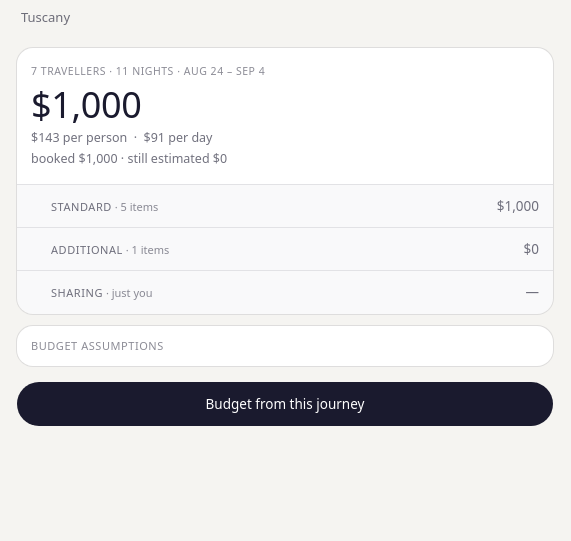
it: Budget in the person's home currency › a US person: US dollars paid count as they are, and the rate reads dollars per euro
Expected: the text with test id "estimate-booked" shows "booked $1,000 ·", top-left (31, 150), bottom-right (227, 167)
Step 1. Click the button "Budget assumptions" → (97, 345), box top-left (17, 326), bottom-right (553, 366)
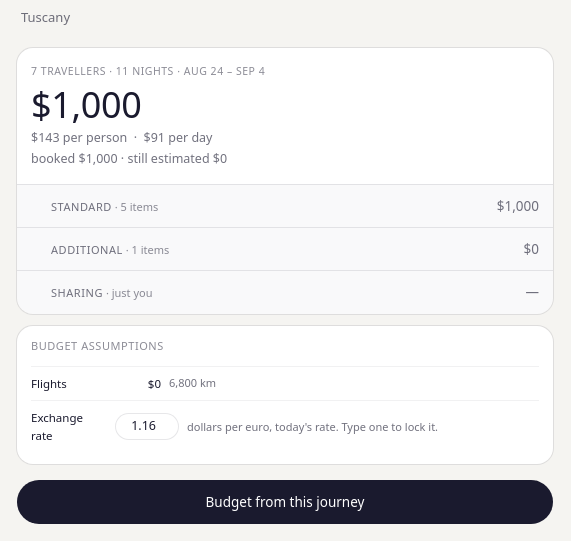
Expected: the text "dollars per euro, today's rate. Type one to lock it." is shown, top-left (187, 418), bottom-right (438, 434)
